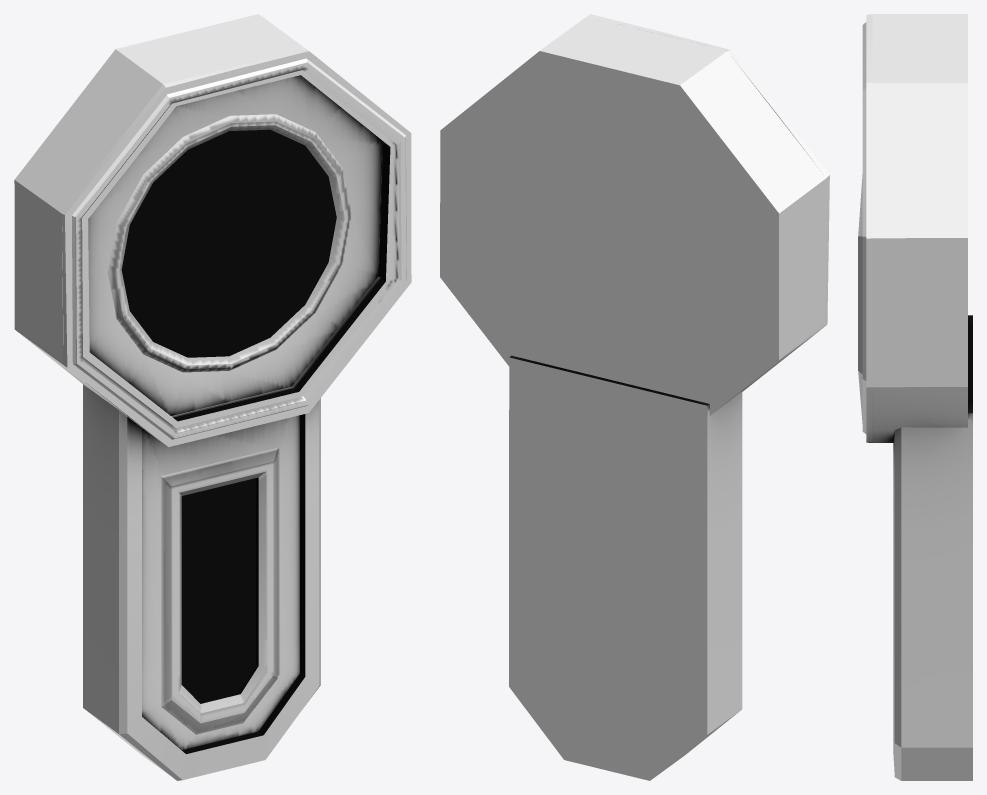
Rendered from clock01.fbx.
3 views of the same model, side by side, from view 1: azimuth 30°, elevation 25°; view 2: azimuth 150°, elevation 25°; view 3: azimuth 270°, elevation 25° (orthographic).
Visible parts, largest first — view 1: clock_woods, glass; view 2: clock_woods; view 3: clock_woods.
Boxes of the visible parts, x1,y1,x2,y2 form: clock_woods: (14,14,411,780); glass: (121,129,335,701); clock_woods: (440,14,829,780); clock_woods: (858,14,972,780).
Bounding box in the file's own units: 27.81 × 54.8 × 8.01.
